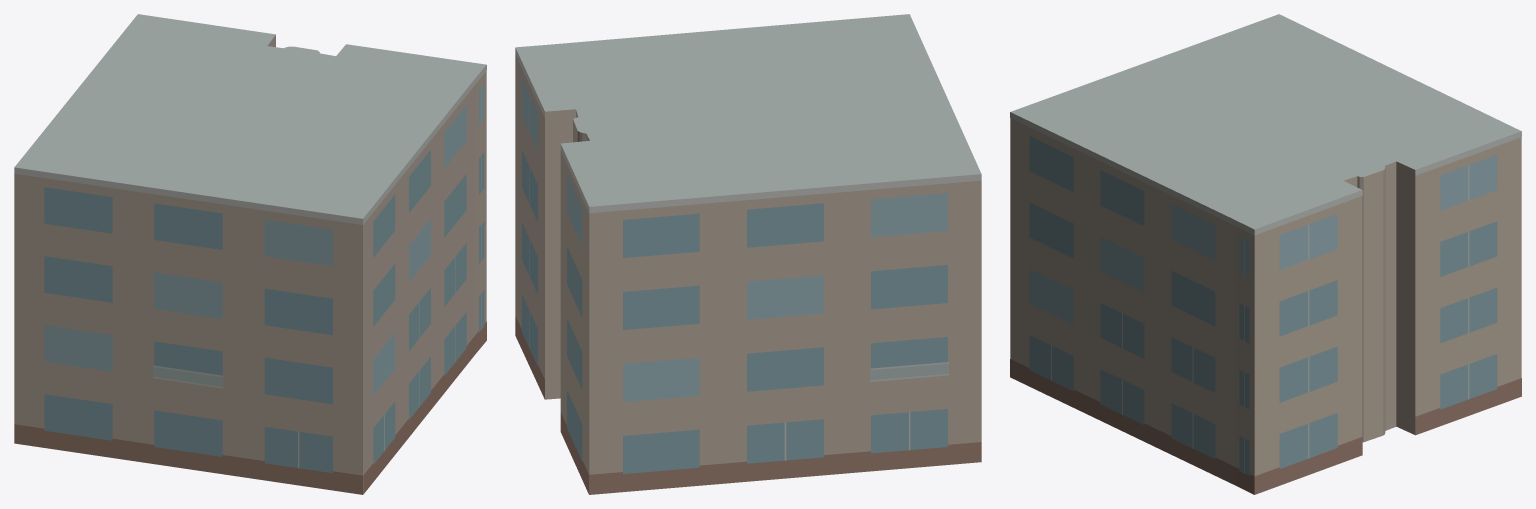
The model's file is survey-upis-32992874.glb.
The picture shows the model from 3 angles, left to right: view 1: azimuth 30°, elevation 25°; view 2: azimuth 150°, elevation 25°; view 3: azimuth 270°, elevation 25°; orthographic projection. The views are drawn at different scales.
Parts seen in each view (by area): view 1: survey-upis-32992874.tmp; view 2: survey-upis-32992874.tmp; view 3: survey-upis-32992874.tmp.
Part boxes in pixels (x1,y1,x2,y2): survey-upis-32992874.tmp: (14,14,486,494); survey-upis-32992874.tmp: (515,14,981,494); survey-upis-32992874.tmp: (1010,14,1521,494).
Size of the model in its own units: 19 by 10.9 by 19.06.
